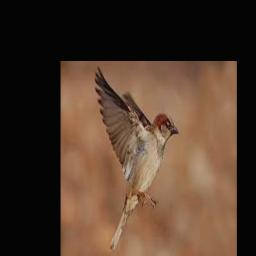Sparrow: (95, 65, 180, 250)
